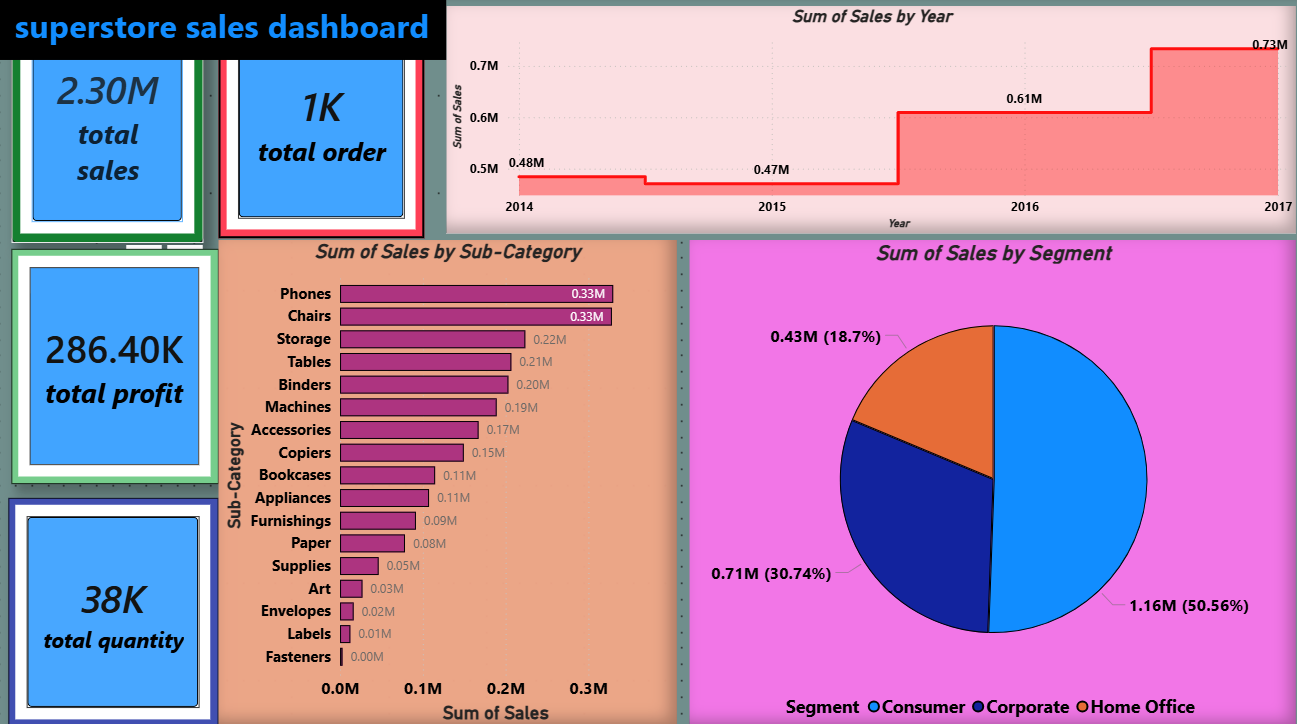

The dashboard page shown, as its layout file describes it:
{"tool":"powerbi","page":{"name":"Page 1","canvas":[1280,720],"ordinal":0},"visuals":[{"type":"cardVisual","fields":{"Data":["Sample - Superstore.total sales"]},"box":[13.6,9.1,189.3,233.2],"z":0},{"type":"cardVisual","fields":{"Data":["Sample - Superstore.total profit"]},"box":[13.1,247.4,203.8,231.4],"z":1000},{"type":"cardVisual","fields":{"Data":["Sample - Superstore.total quantity"]},"box":[10.2,493.4,206.7,225.6],"z":1001},{"type":"cardVisual","fields":{"Data":["Sample - Superstore.total order"]},"box":[216.5,9.1,202.9,228.6],"z":1002},{"type":"barChart","fields":{"Category":["Sample - Superstore.Sub-Category"],"Y":["Sum(Sample - Superstore.Sales)"]},"box":[216.5,239.2,451.2,480],"z":1003},{"type":"lineChart","fields":{"Category":["Sample - Superstore.Order Date.Variation.Date Hierarchy.Year","Sample - Superstore.Order Date.Variation.Date Hierarchy.Quarter","Sample - Superstore.Order Date.Variation.Date Hierarchy.Month","Sample - Superstore.Order Date.Variation.Date Hierarchy.Day"],"Y":["Sum(Sample - Superstore.Sales)"]},"box":[442.1,9.1,837.4,224.1],"z":1004},{"type":"pieChart","fields":{"Category":["Sample - Superstore.Segment"],"Y":["Sum(Sample - Superstore.Sales)"]},"box":[681.2,238.7,598.2,480.3],"z":1005},{"type":"textbox","box":[0,0,441.6,62],"z":1006}]}

Visuals, with their boxes in screenshot pixels (x1, y1, x2, y2), scaled from the page's 1280x720 canvas onto the 1297x724 screenshot:
cardVisual - Sample - Superstore.total sales: bbox=[14, 9, 206, 244]
cardVisual - Sample - Superstore.total profit: bbox=[13, 249, 220, 481]
cardVisual - Sample - Superstore.total quantity: bbox=[10, 496, 220, 723]
cardVisual - Sample - Superstore.total order: bbox=[219, 9, 425, 239]
barChart - Sample - Superstore.Sub-Category x Sum(Sample - Superstore.Sales): bbox=[219, 241, 677, 723]
lineChart - Sample - Superstore.Order Date.Variation.Date Hierarchy.Year x Sample - Superstore.Order Date.Variation.Date Hierarchy.Quarter: bbox=[448, 9, 1296, 234]
pieChart - Sample - Superstore.Segment x Sum(Sample - Superstore.Sales): bbox=[690, 240, 1296, 723]
textbox: bbox=[0, 0, 447, 62]
